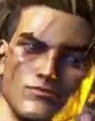kevin: (4, 6, 93, 115)
